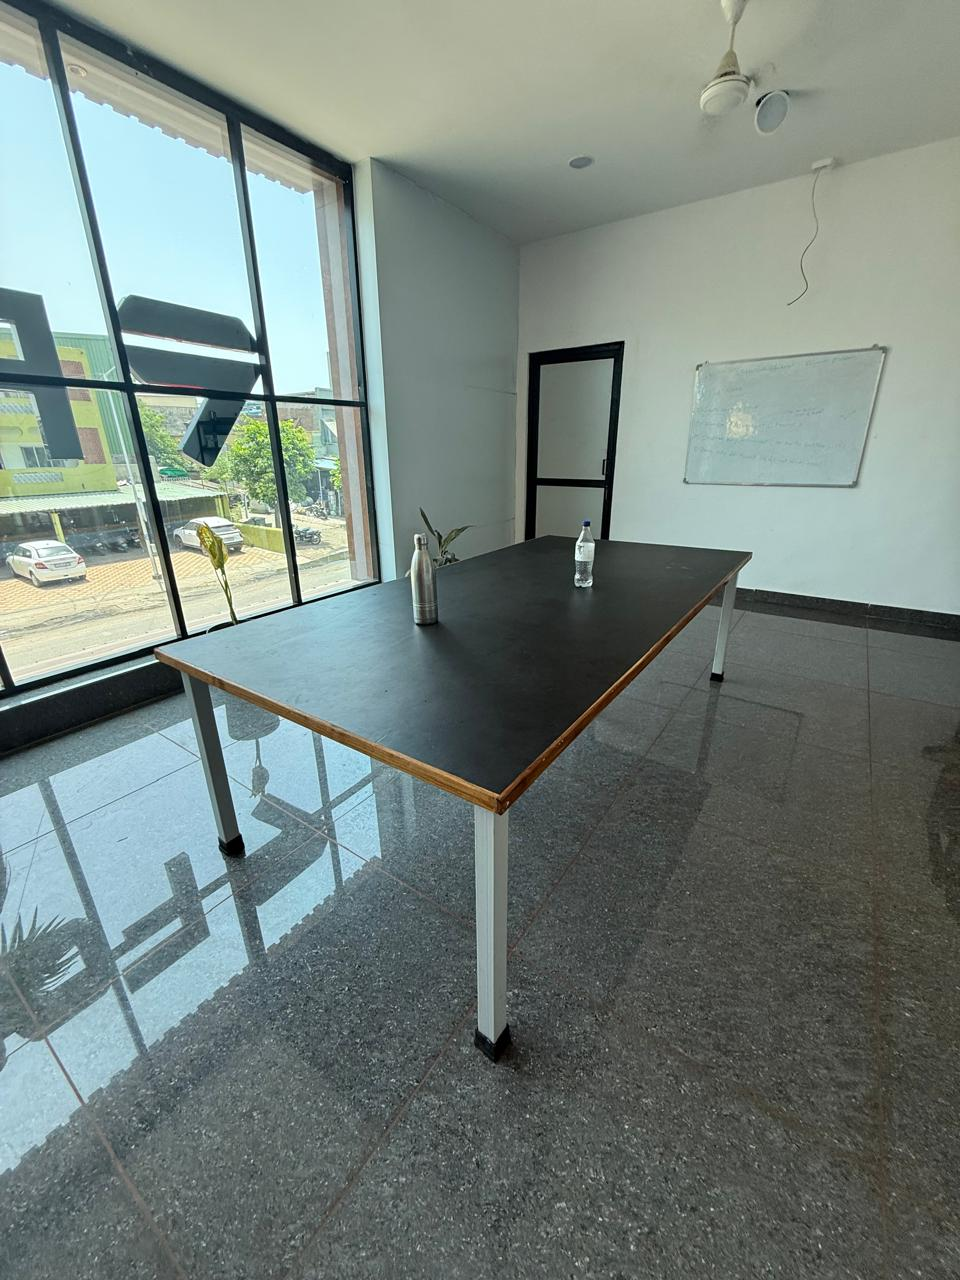bottle_on_table: (396, 515, 445, 629), (560, 518, 617, 587)
